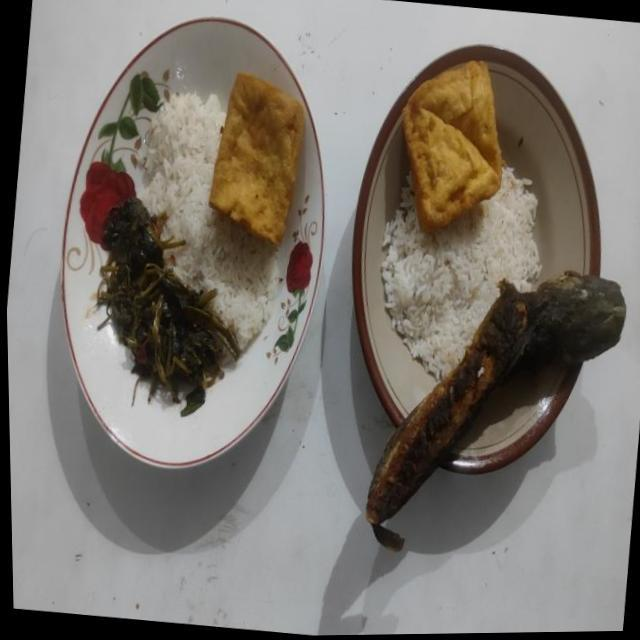nasi_putih: (141, 92, 279, 347), (380, 168, 542, 382)
tahu_goreng: (402, 61, 502, 231), (208, 72, 304, 245)
tumis_kangkung: (97, 198, 240, 416)
